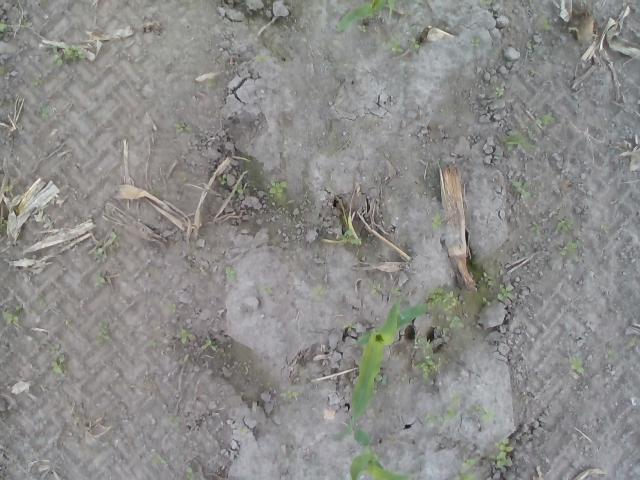Maize: (337, 302, 428, 440), (348, 428, 412, 480), (334, 0, 396, 34)
Weeds: (427, 287, 466, 336), (414, 336, 446, 382), (47, 44, 88, 66), (501, 128, 535, 153), (490, 437, 512, 468), (454, 458, 481, 480), (470, 404, 497, 424), (1, 303, 23, 324), (96, 320, 113, 346), (568, 352, 588, 374), (532, 112, 556, 128), (268, 180, 288, 199), (558, 240, 578, 258), (476, 271, 496, 289), (389, 286, 408, 304), (386, 36, 404, 54), (342, 230, 362, 246), (49, 354, 65, 374), (309, 285, 327, 302), (512, 179, 528, 198), (442, 407, 458, 424), (496, 286, 514, 301), (338, 318, 357, 332), (31, 79, 46, 96), (558, 219, 576, 232), (431, 214, 444, 232), (166, 414, 182, 428), (176, 329, 192, 343), (38, 103, 50, 121), (202, 339, 216, 354), (94, 271, 107, 287), (449, 390, 461, 407), (175, 122, 193, 133), (224, 267, 237, 280), (528, 223, 540, 237), (374, 374, 388, 386), (151, 454, 166, 465), (280, 390, 296, 400), (242, 358, 255, 370), (410, 35, 421, 49), (423, 414, 438, 424), (480, 295, 492, 307), (608, 350, 620, 361), (0, 216, 7, 234), (258, 286, 272, 295), (544, 18, 554, 30), (216, 173, 226, 185), (370, 286, 382, 296), (0, 19, 8, 33), (144, 340, 158, 348), (470, 38, 481, 48), (255, 54, 265, 64), (399, 372, 408, 383), (186, 466, 193, 480), (480, 0, 492, 8), (495, 86, 504, 96), (110, 231, 120, 240), (50, 344, 61, 352), (357, 24, 367, 32), (34, 297, 44, 305), (600, 223, 608, 233), (3, 184, 13, 192), (0, 65, 7, 76), (168, 304, 176, 313), (64, 320, 72, 329), (70, 415, 80, 422), (236, 183, 242, 193), (334, 224, 340, 228)
